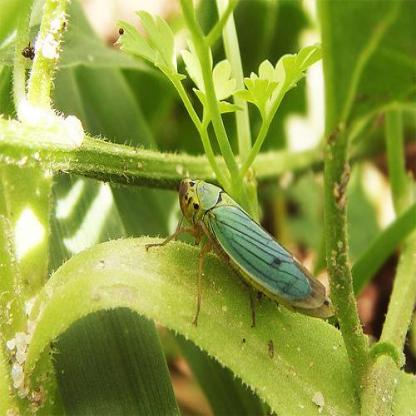Green-Leafhopper: (145, 173, 331, 330)
